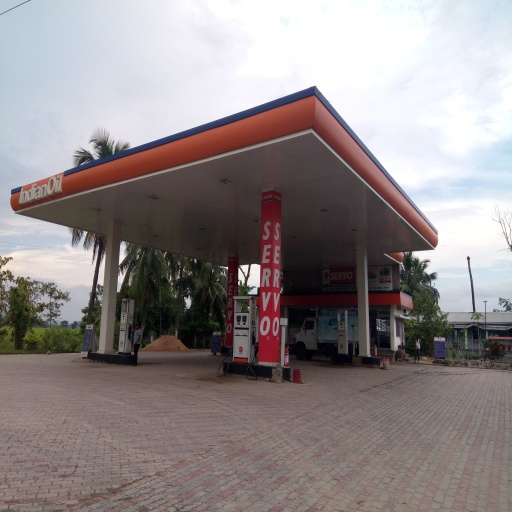roof: (12, 87, 439, 267)
